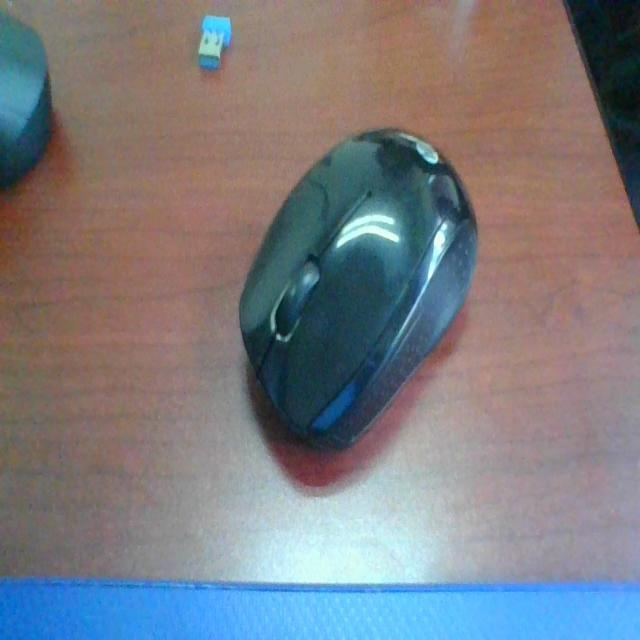mouse: (232, 122, 496, 438)
